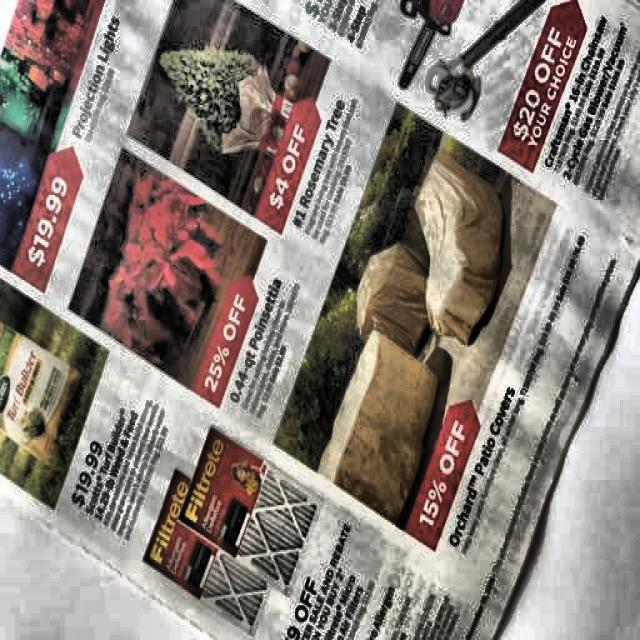paper: (6, 6, 567, 623)
